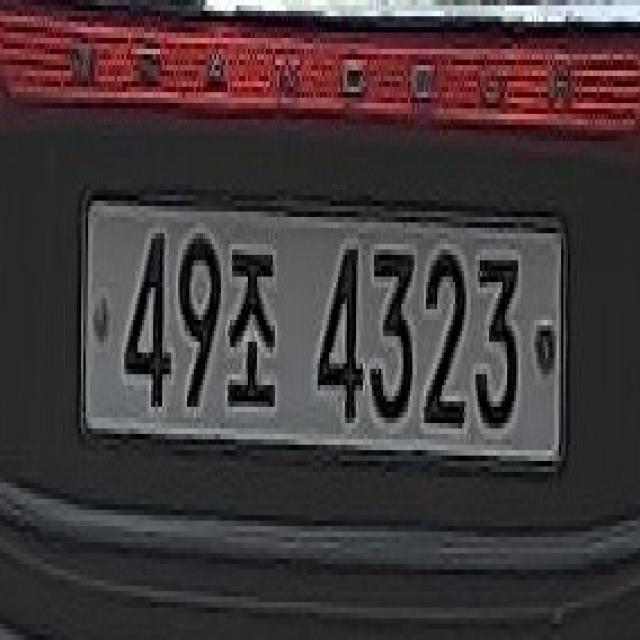2: (420, 241, 470, 441)
3: (475, 245, 529, 446), (368, 238, 415, 426)
4: (306, 232, 364, 428), (122, 227, 171, 418)
9: (178, 226, 222, 417)
jo: (226, 228, 286, 423)
license_plate: (71, 170, 582, 488)
